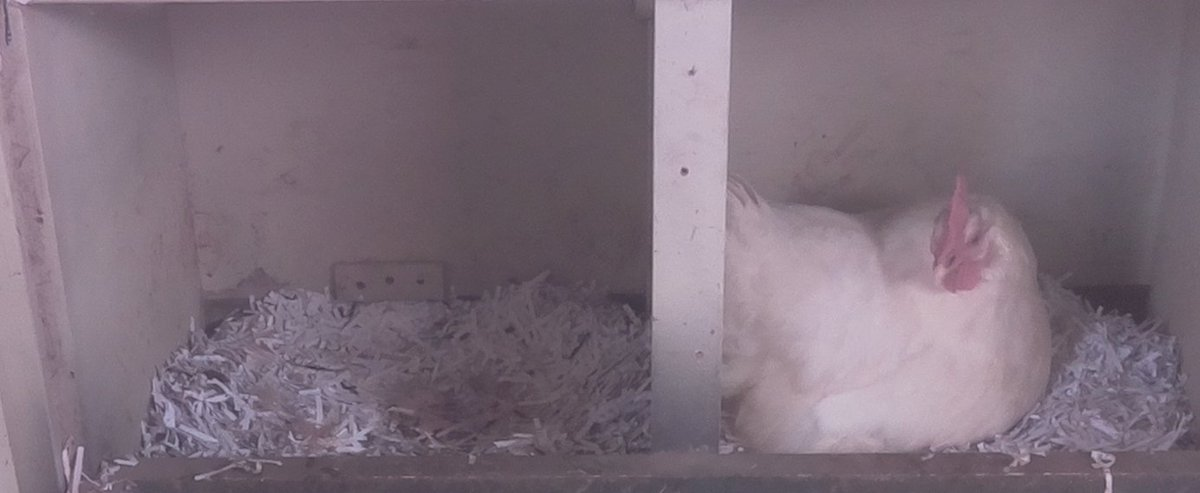hen: (727, 174, 1056, 446)
